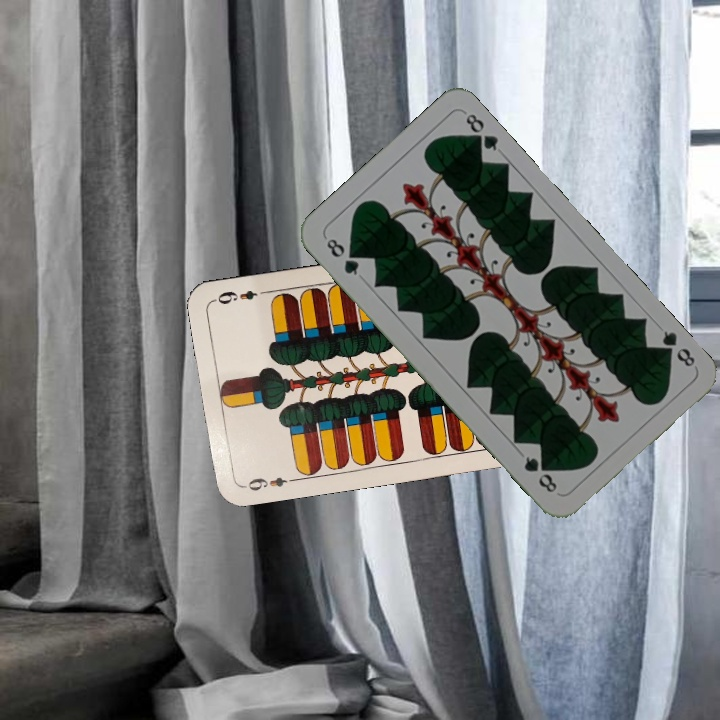E9: (239, 473, 298, 494)
G8: (654, 326, 698, 370), (322, 234, 362, 278)
